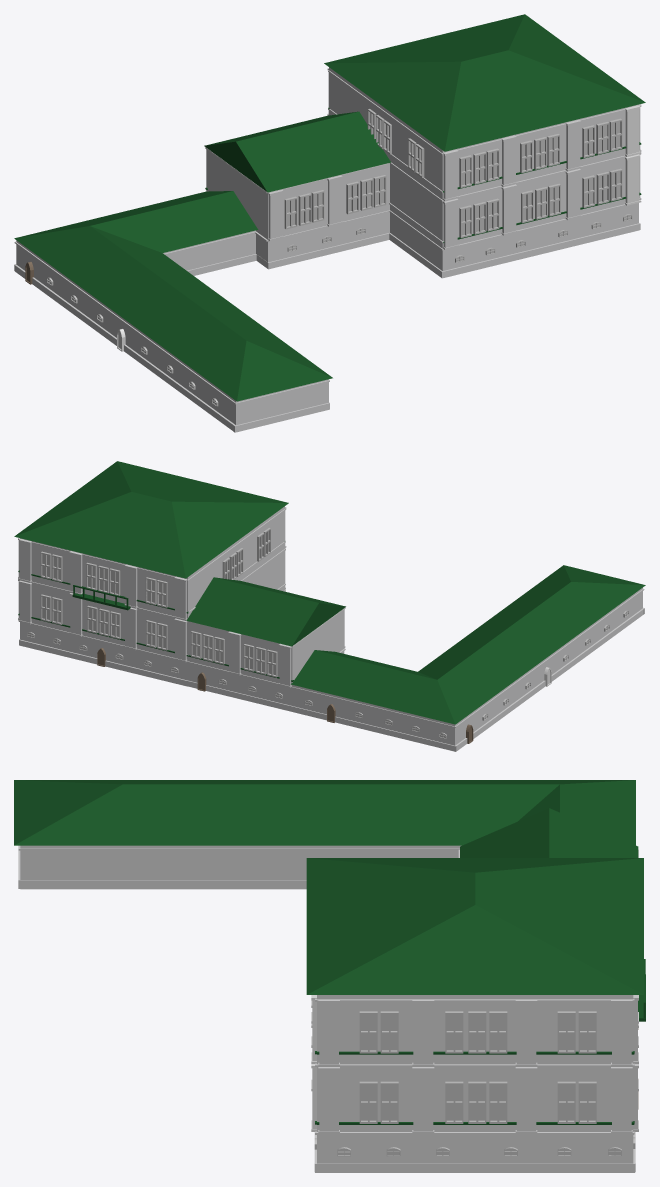
Rendered from borodkin.glb.
The picture shows the model from 3 angles, top to bottom: view 1: azimuth 30°, elevation 25°; view 2: azimuth 150°, elevation 25°; view 3: azimuth 270°, elevation 25°; orthographic projection. The views are drawn at different scales.
Parts seen in each view (by area): view 1: Cube.193, Cube, Cube.014, Cube.144, Cube.133, Cube.175, Cube.057, Cube.056; view 2: Cube.193, Cube, Cube.014, Cube.109, Cube.175, Cube.071, Cube.163, Cube.120, Cube.040; view 3: Cube.193, Cube, Cube.014, Cube.190, Cube.040, Cube.098.
Boxes of the visible parts, bbox=[...] form: Cube.193: bbox=[14, 14, 645, 401]; Cube: bbox=[16, 67, 638, 425]; Cube.014: bbox=[14, 68, 641, 432]; Cube.144: bbox=[459, 118, 622, 237]; Cube.133: bbox=[284, 175, 386, 229]; Cube.175: bbox=[367, 109, 424, 177]; Cube.057: bbox=[625, 105, 640, 156]; Cube.056: bbox=[625, 154, 640, 205]; Cube.193: bbox=[14, 461, 645, 724]; Cube: bbox=[20, 506, 642, 745]; Cube.014: bbox=[18, 507, 644, 751]; Cube.109: bbox=[40, 551, 277, 677]; Cube.175: bbox=[222, 528, 270, 579]; Cube.071: bbox=[27, 632, 446, 738]; Cube.163: bbox=[97, 648, 473, 743]; Cube.120: bbox=[72, 585, 130, 610]; Cube.040: bbox=[18, 541, 293, 681]; Cube.193: bbox=[14, 780, 643, 994]; Cube: bbox=[20, 845, 633, 1163]; Cube.014: bbox=[18, 845, 638, 1172]; Cube.190: bbox=[359, 1011, 596, 1123]; Cube.040: bbox=[315, 1051, 634, 1124]; Cube.098: bbox=[337, 1147, 621, 1156].
Bounding box in the file's own units: 4.2 × 1.21 × 3.19.
